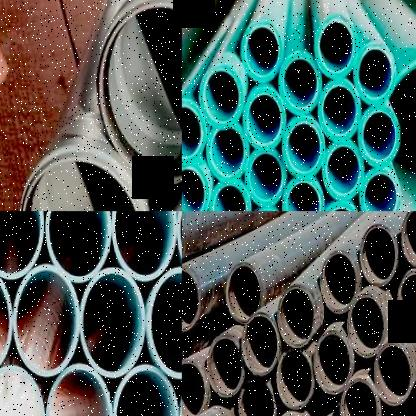pipe: (97, 0, 182, 185), (19, 148, 147, 212), (13, 264, 80, 376), (80, 268, 146, 377), (45, 211, 112, 282), (112, 211, 176, 281), (389, 56, 416, 211), (147, 268, 182, 377), (46, 362, 113, 416), (113, 363, 180, 416), (198, 64, 245, 130), (0, 211, 43, 279), (314, 13, 358, 79), (242, 88, 286, 151), (241, 19, 284, 83), (279, 51, 322, 115), (317, 80, 361, 142), (282, 115, 325, 178), (354, 42, 396, 106), (313, 330, 355, 394), (347, 292, 387, 358), (358, 106, 400, 168), (207, 122, 250, 182), (374, 341, 413, 406), (322, 140, 364, 200), (244, 149, 288, 206), (320, 250, 359, 314), (360, 222, 398, 286), (278, 284, 316, 348), (242, 312, 280, 376), (206, 334, 244, 398), (225, 261, 263, 324), (277, 348, 314, 411), (0, 365, 44, 416), (358, 167, 402, 211), (340, 376, 380, 416), (182, 98, 206, 163), (237, 377, 277, 416), (182, 359, 208, 416), (282, 177, 325, 211), (0, 266, 13, 378), (182, 163, 210, 211), (182, 266, 202, 333), (209, 181, 252, 211), (396, 270, 416, 334), (400, 211, 416, 269)
